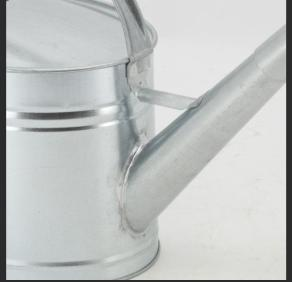ARROSOIR: (3, 4, 289, 282)
